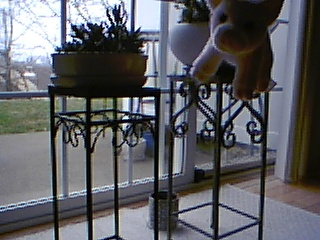piggy: (183, 1, 288, 103)
